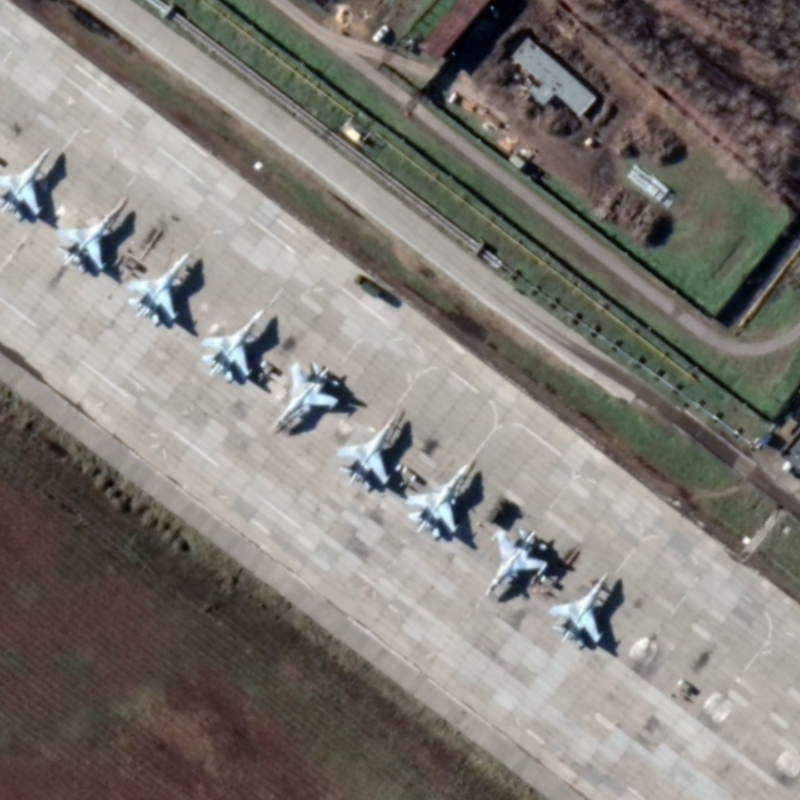A1: (54, 194, 130, 276), (336, 406, 407, 492), (406, 458, 478, 541), (270, 359, 341, 439), (200, 307, 268, 385), (484, 525, 551, 602), (125, 250, 192, 325), (547, 571, 610, 648), (1, 145, 53, 222)
